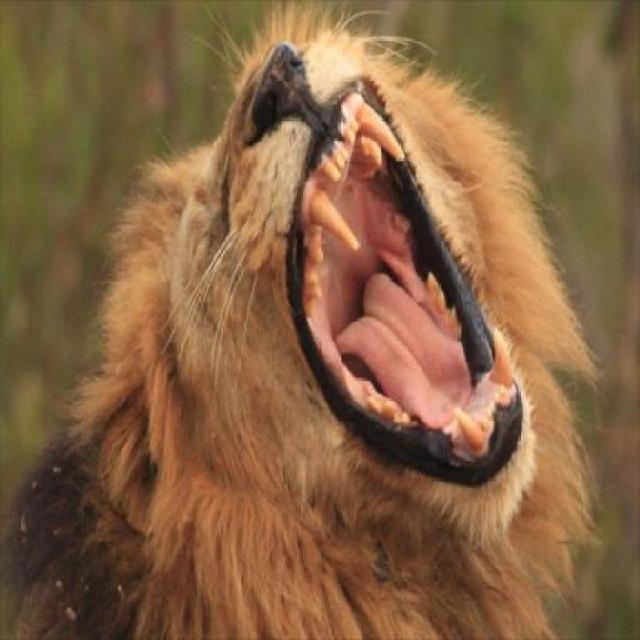Lion: (62, 11, 606, 638)
